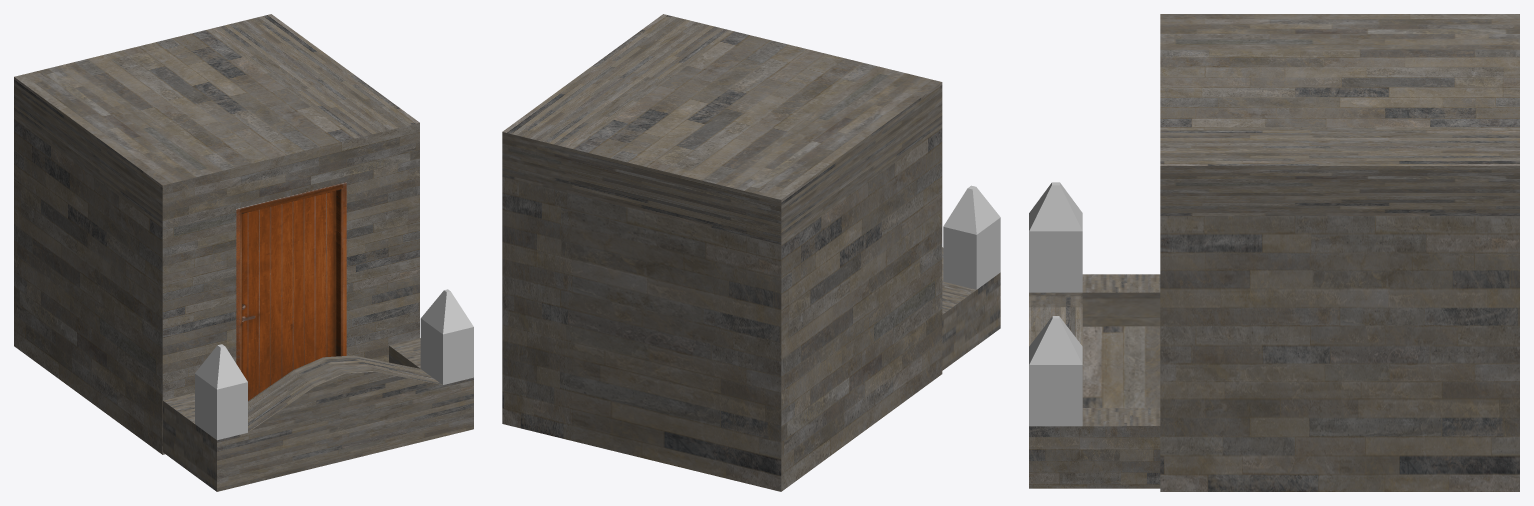
The model's file is single_door_2.fbx.
3 renders of one model, left to right at view 1: azimuth 30°, elevation 25°; view 2: azimuth 150°, elevation 25°; view 3: azimuth 270°, elevation 25°, orthographic. The views are drawn at different scales.
Parts seen in each view (by area): view 1: Cube.019; view 2: Cube.019; view 3: Cube.019.
Boxes of the visible parts, box(x1,y1,x2,y2) form: Cube.019: box(14, 14, 473, 491); Cube.019: box(502, 14, 1000, 491); Cube.019: box(1029, 14, 1519, 491).
Size of the model in its own units: 273 by 200 by 200.
